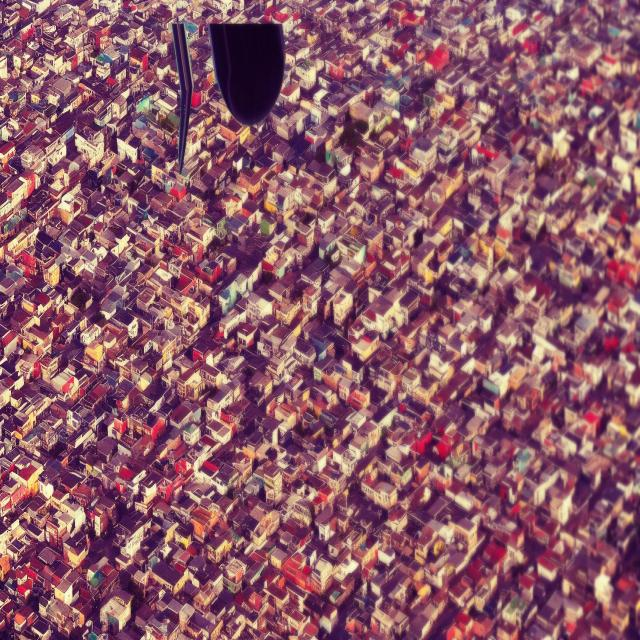airplane: (172, 24, 286, 173)
